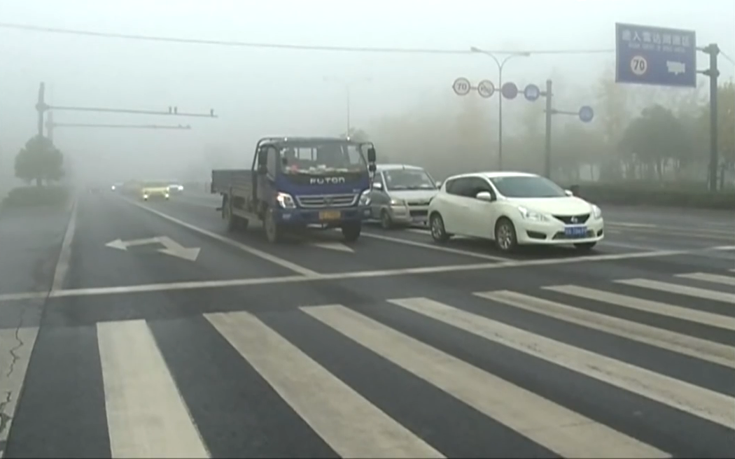bus: (208, 137, 377, 246)
car: (426, 169, 606, 253), (343, 163, 444, 231), (136, 180, 170, 204), (165, 179, 187, 197)
